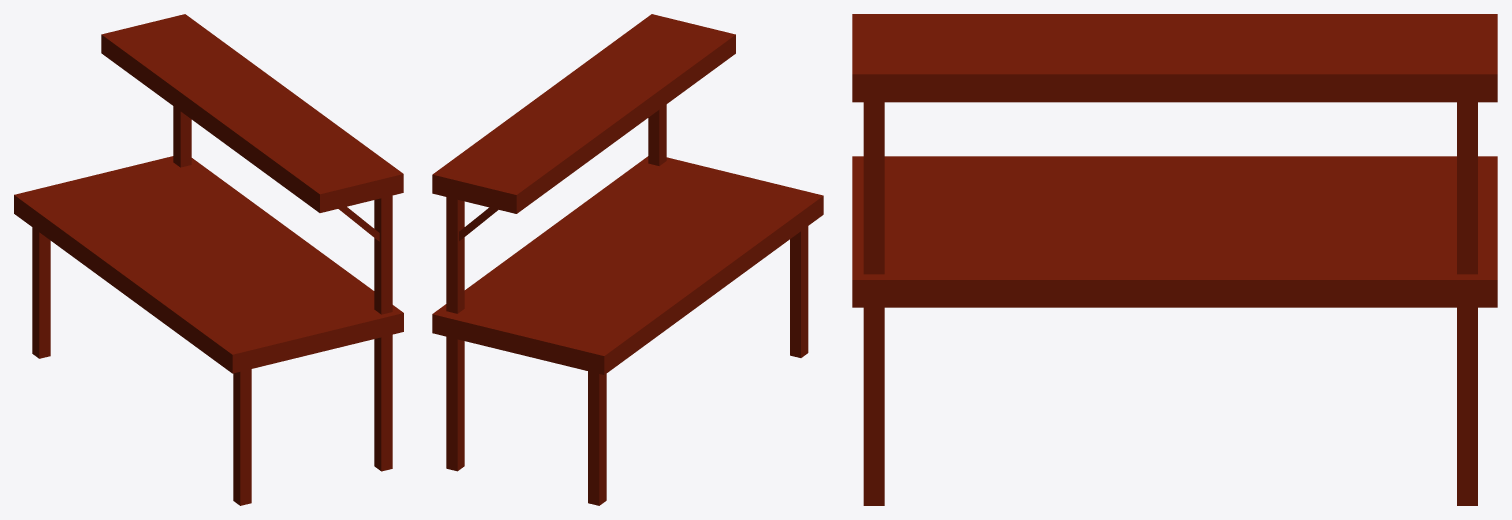
Rendered from m_Desk.FBX.
The picture shows the model from 3 angles, left to right: view 1: azimuth 30°, elevation 25°; view 2: azimuth 150°, elevation 25°; view 3: azimuth 270°, elevation 25°; orthographic projection. The views are drawn at different scales.
Parts seen in each view (by area): view 1: Box006; view 2: Box006; view 3: Box006.
Part boxes in pixels (x1,y1,x2,y2): Box006: [14, 14, 403, 505]; Box006: [432, 14, 823, 505]; Box006: [852, 14, 1497, 505].
Bounding box in the file's own units: 32.31 × 71.31 × 53.28.
